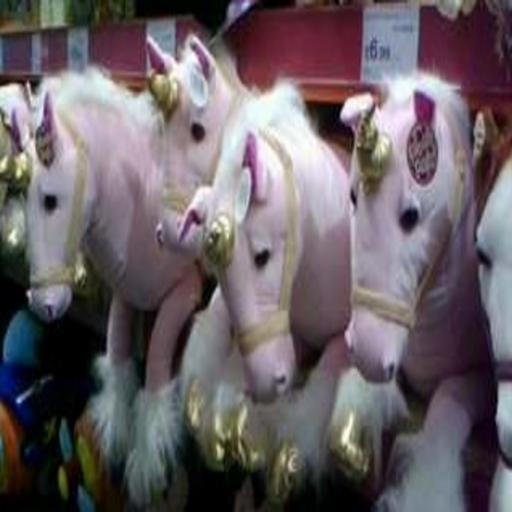horse: (10, 52, 204, 506), (174, 80, 359, 510), (334, 49, 486, 509), (137, 26, 253, 428), (464, 100, 510, 510), (0, 78, 28, 260)
